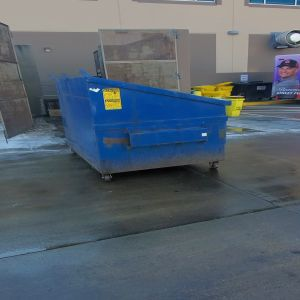Dumpster: (58, 79, 234, 185)
Person: (277, 59, 299, 83)
